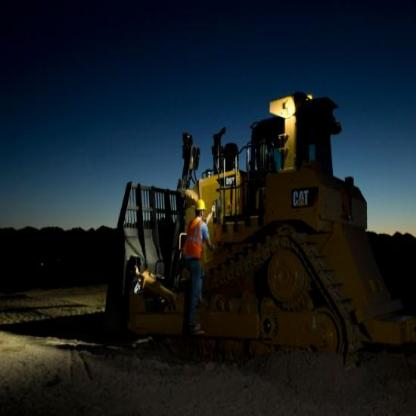bull_dozer/loader/grader: (90, 72, 414, 378)
person: (179, 204, 219, 338)
